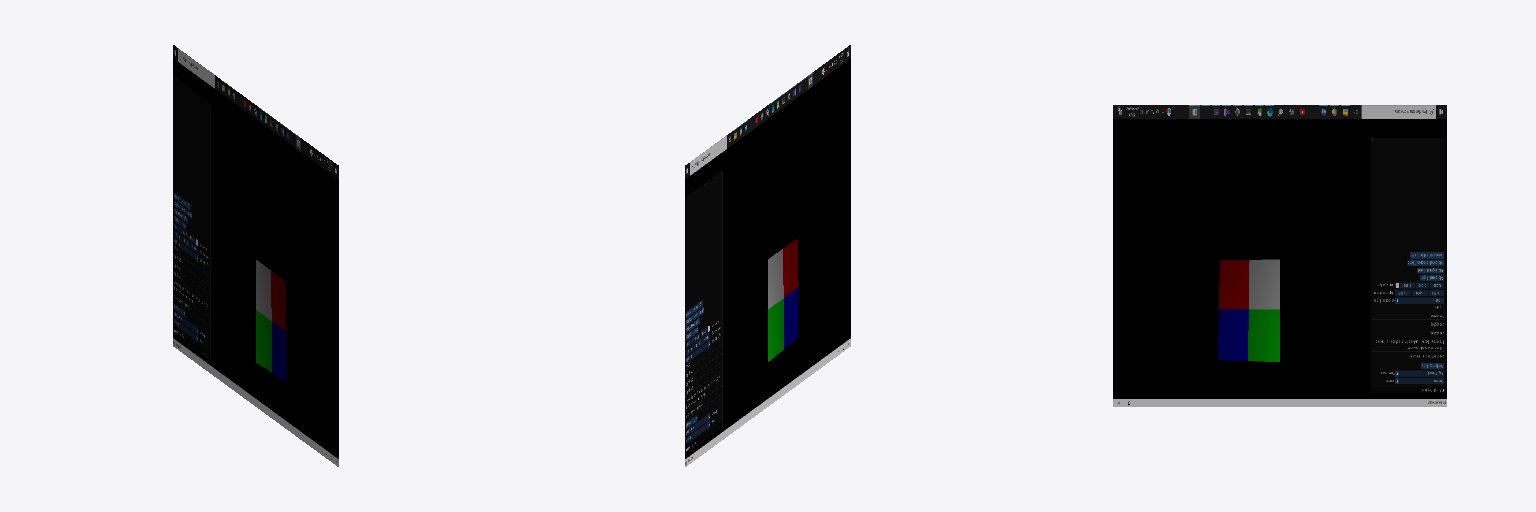
3 views of the same model, side by side, from view 1: azimuth 30°, elevation 25°; view 2: azimuth 150°, elevation 25°; view 3: azimuth 270°, elevation 25° (orthographic).
Bounding box in the file's own units: 0 × 1 × 1.
Materials: 1 (1 with a texture image).